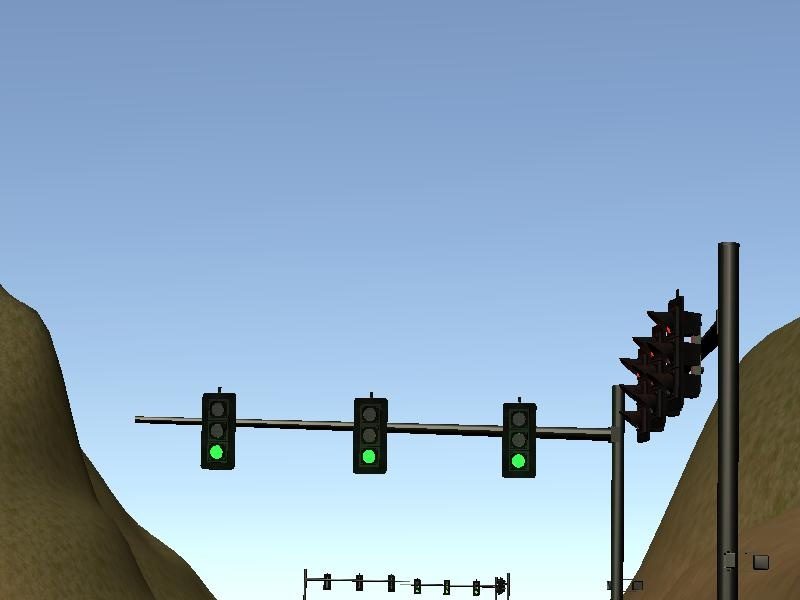GREEN: (351, 398, 389, 474), (503, 405, 539, 477), (201, 394, 235, 470)
